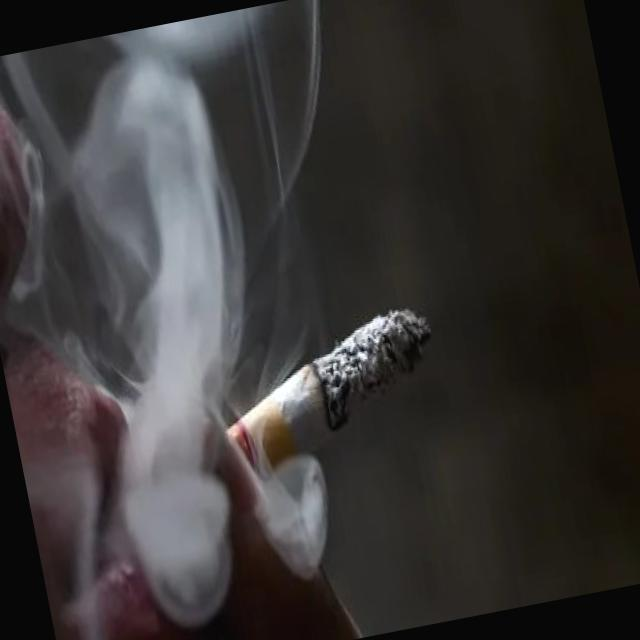smoke: (205, 294, 456, 491)
